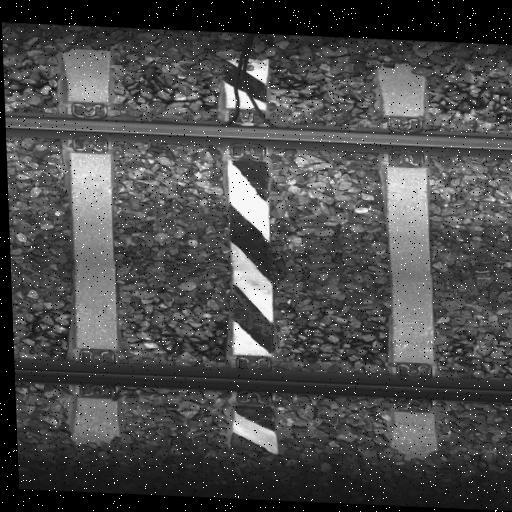sleeper: (52, 47, 131, 449), (212, 56, 290, 457), (370, 63, 445, 466)
